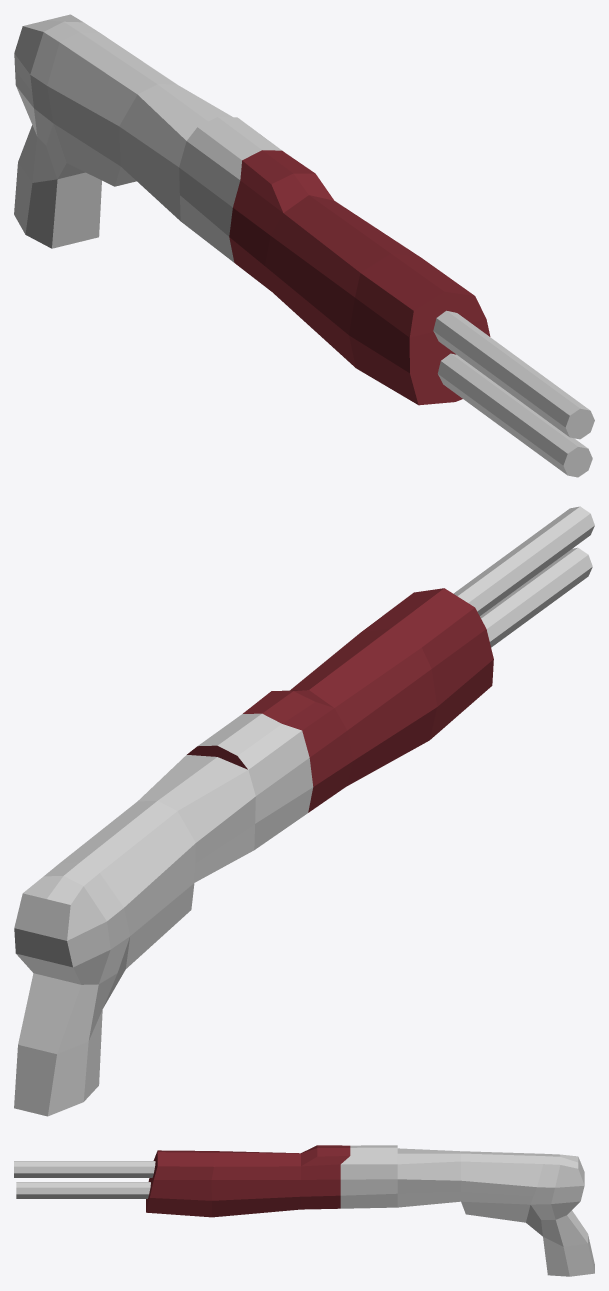
Rendered from Shotgun.fbx.
The picture shows the model from 3 angles, top to bottom: view 1: azimuth 30°, elevation 25°; view 2: azimuth 150°, elevation 25°; view 3: azimuth 270°, elevation 25°; orthographic projection. The views are drawn at different scales.
Parts seen in each view (by area): view 1: Cube; view 2: Cube; view 3: Cube.
Part boxes in pixels (<box>): Cube: <box>14,14,594,477</box>; Cube: <box>14,506,594,1116</box>; Cube: <box>14,1145,594,1276</box>.
Bounding box in the file's own units: 8.06 × 20.09 × 86.93.
